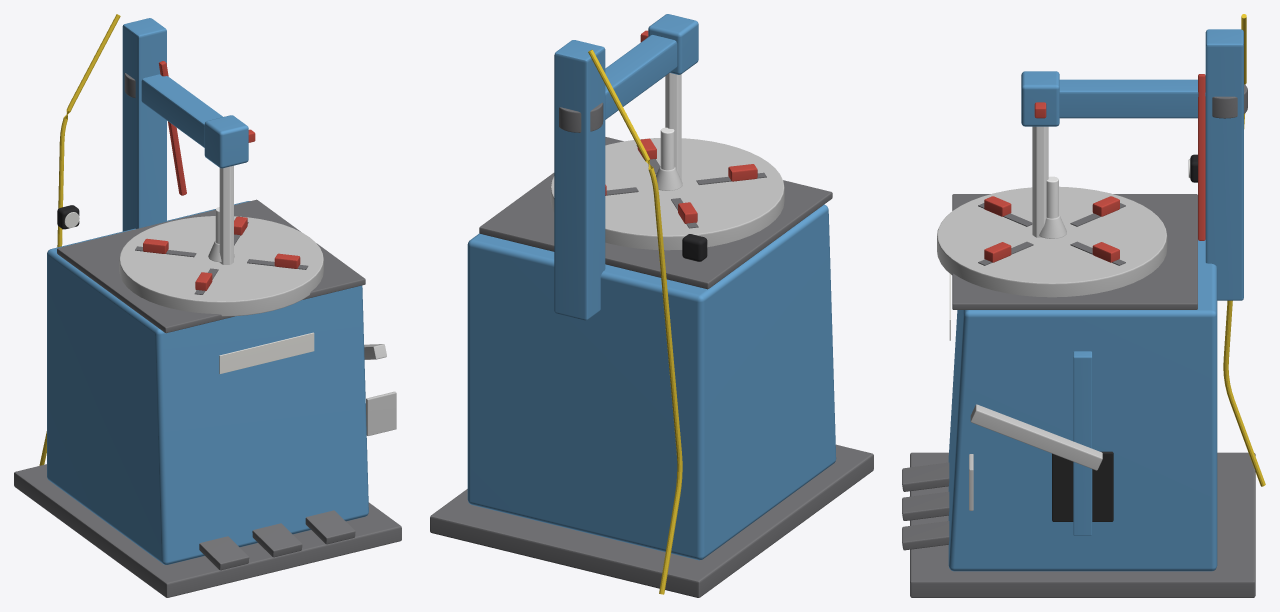
File: tyre_changer.glb
3 renders of one model, left to right at view 1: azimuth 30°, elevation 25°; view 2: azimuth 150°, elevation 25°; view 3: azimuth 270°, elevation 25°, orthographic. The views are drawn at different scales.
Visible parts, largest first — view 1: SM_tyre_changer; view 2: SM_tyre_changer; view 3: SM_tyre_changer.
Part boxes in pixels (x1=…): SM_tyre_changer: x1=14, y1=14, x2=401, y2=597; SM_tyre_changer: x1=430, y1=14, x2=873, y2=597; SM_tyre_changer: x1=902, y1=14, x2=1265, y2=597.
Size of the model in its own units: 0.87 by 1.47 by 0.9471.
